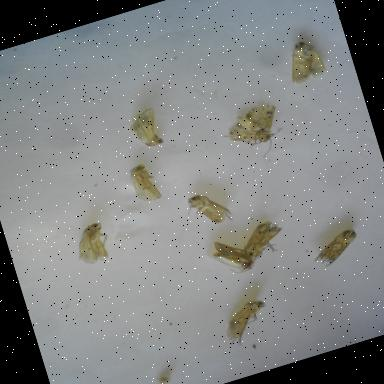abw: (216, 91, 294, 171), (274, 26, 342, 92), (207, 294, 280, 354), (304, 219, 378, 275), (229, 215, 297, 273), (118, 96, 178, 157), (200, 229, 262, 288), (114, 156, 174, 214), (180, 182, 242, 237), (64, 216, 118, 272)
